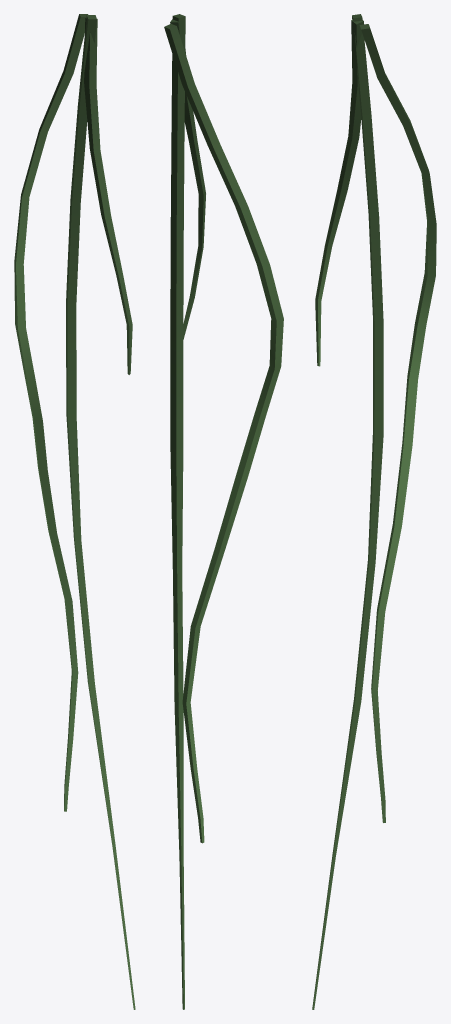
The model's file is Jungle_Vines_Sml_A.fbx.
3 views of the same model, side by side, from view 1: azimuth 90°, elevation 25°; view 2: azimuth 210°, elevation 25°; view 3: azimuth 270°, elevation 25° (orthographic). The views are drawn at different scales.
Parts seen in each view (by area): view 1: Jungle_Vines_Sml_A; view 2: Jungle_Vines_Sml_A; view 3: Jungle_Vines_Sml_A.
Boxes of the visible parts, bbox=[...] form: Jungle_Vines_Sml_A: bbox=[14, 14, 135, 1009]; Jungle_Vines_Sml_A: bbox=[164, 14, 283, 1009]; Jungle_Vines_Sml_A: bbox=[312, 14, 436, 1009].
Bounding box in the file's own units: 0.4261 × 4.81 × 0.5386.
